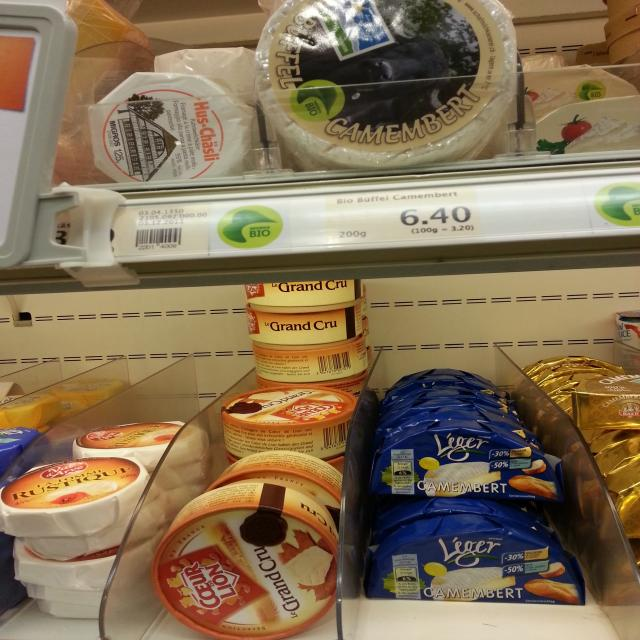Cheese: (254, 0, 518, 171), (142, 479, 348, 640), (360, 513, 581, 605), (84, 76, 256, 189), (369, 426, 571, 508), (0, 452, 152, 536), (215, 385, 359, 463), (250, 334, 367, 384), (76, 422, 206, 466), (247, 304, 366, 343), (574, 374, 640, 432), (244, 281, 365, 309)
